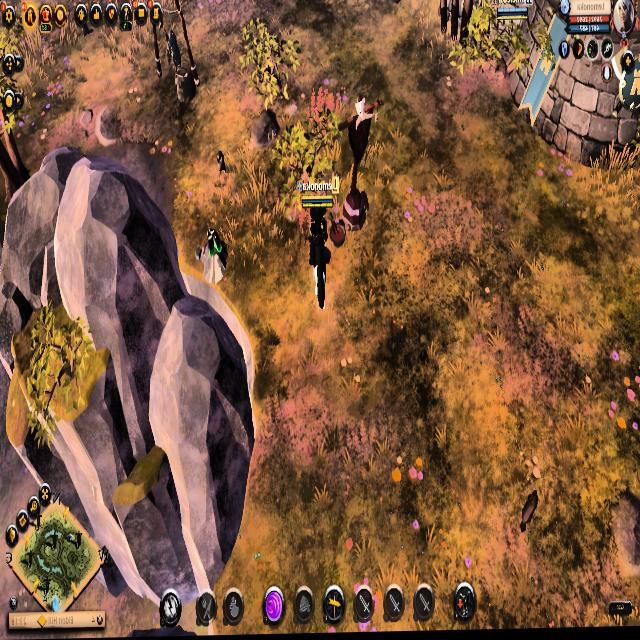ore tier 3: (200, 228, 228, 287)
